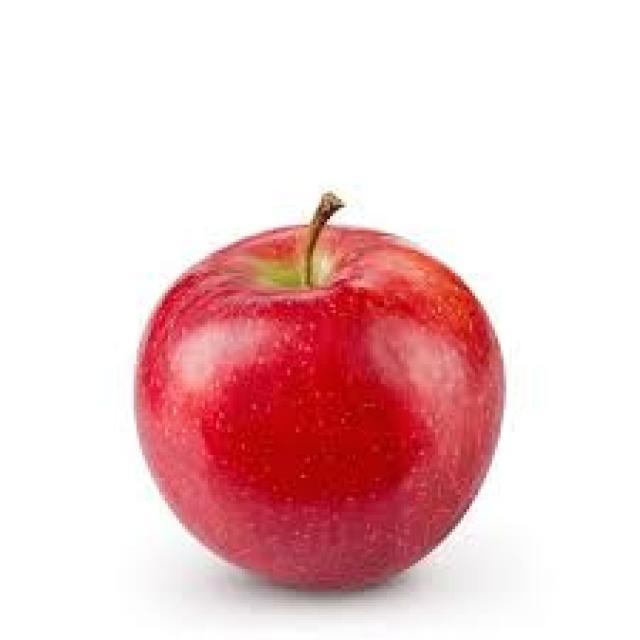apple: (133, 195, 521, 598)
